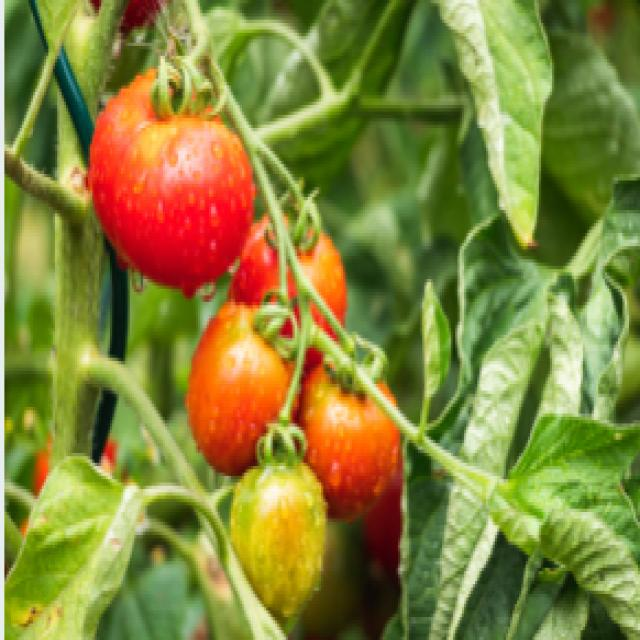Tomato: (93, 68, 243, 294)
